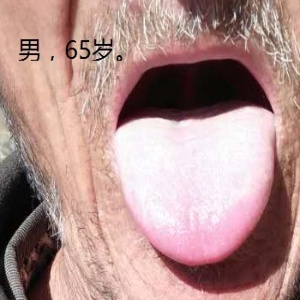st: (112, 122, 277, 265)
